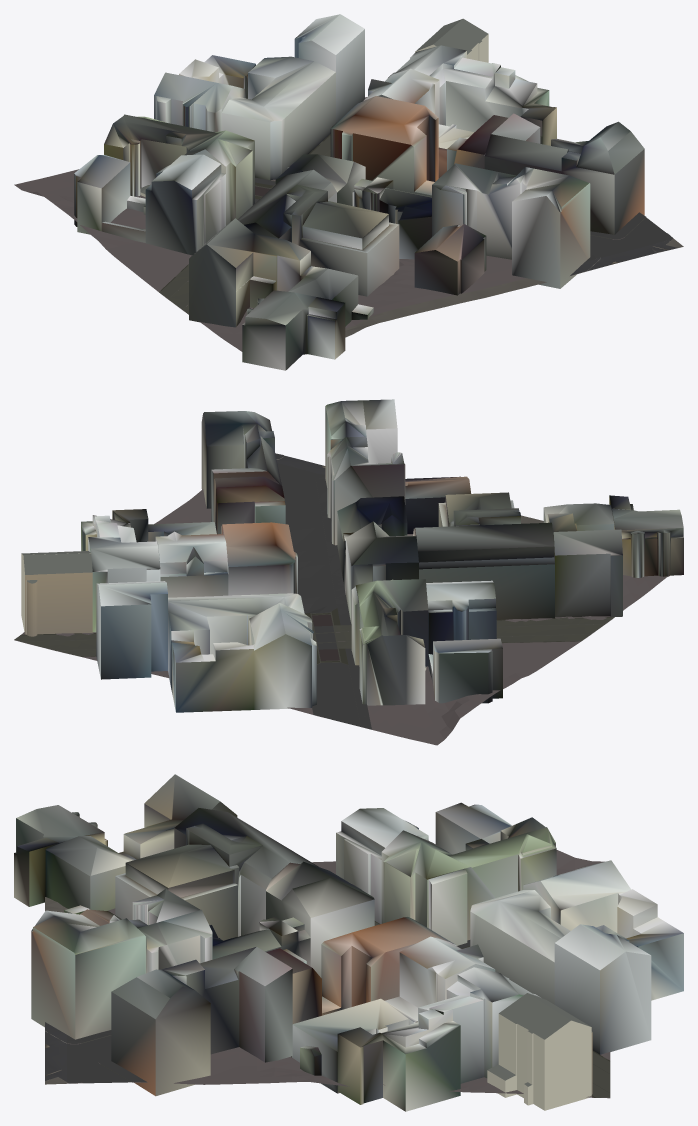
The picture shows the model from 3 angles, top to bottom: view 1: azimuth 30°, elevation 25°; view 2: azimuth 150°, elevation 25°; view 3: azimuth 270°, elevation 25°; orthographic projection. The views are drawn at different scales.
Visible parts, largest first — view 1: c_m05_p05; view 2: c_m05_p05; view 3: c_m05_p05.
Boxes of the visible parts, <box> form: c_m05_p05: <box>14,14,683,370</box>; c_m05_p05: <box>14,399,683,745</box>; c_m05_p05: <box>14,774,683,1111</box>.
Size of the model in its own units: 137 by 32.57 by 152.
